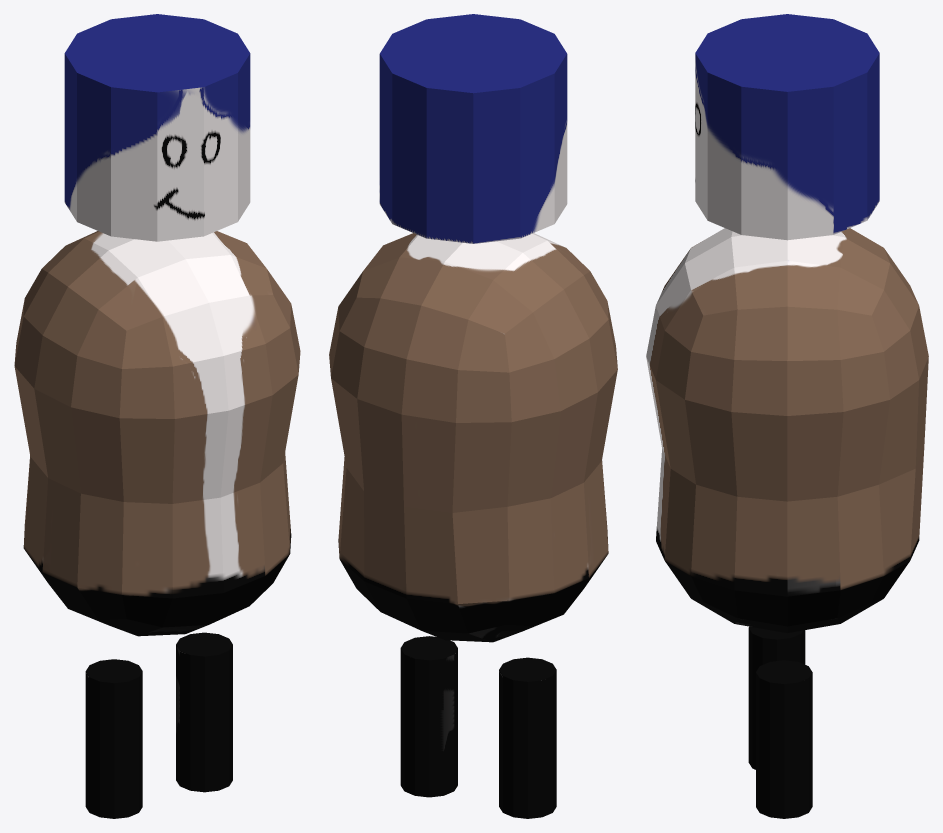
The model's file is CelShadingtest.fbx.
The picture shows the model from 3 angles, left to right: view 1: azimuth 30°, elevation 25°; view 2: azimuth 150°, elevation 25°; view 3: azimuth 270°, elevation 25°; orthographic projection.
Parts seen in each view (by area): view 1: Circle; view 2: Circle; view 3: Circle.
Part boxes in pixels (left/top/right/bottom): Circle: left=14, top=14, right=300, bottom=818; Circle: left=329, top=14, right=617, bottom=818; Circle: left=646, top=14, right=928, bottom=818.
Bounding box in the file's own units: 307 × 877 × 307.
